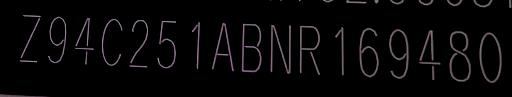letter: (208, 20, 238, 75), (296, 22, 324, 79), (416, 27, 444, 82), (446, 28, 474, 83), (153, 18, 181, 71), (238, 20, 264, 75), (267, 21, 293, 76), (356, 25, 382, 80), (478, 30, 504, 85), (16, 11, 42, 64), (72, 14, 98, 67), (386, 27, 412, 80), (127, 16, 151, 71), (45, 14, 69, 65), (100, 17, 124, 68), (330, 24, 348, 79), (188, 19, 204, 72)
